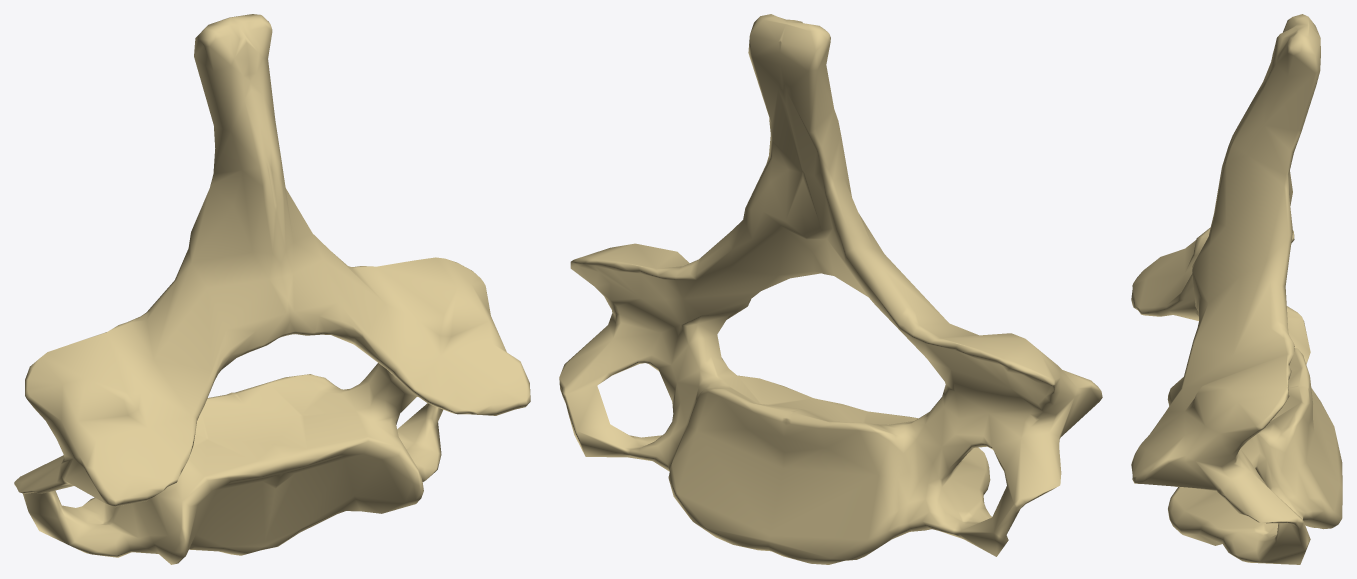
The picture shows the model from 3 angles, left to right: view 1: azimuth 30°, elevation 25°; view 2: azimuth 150°, elevation 25°; view 3: azimuth 270°, elevation 25°; orthographic projection. The views are drawn at different scales.
Visible parts, largest first — view 1: 第六颈椎; view 2: 第六颈椎; view 3: 第六颈椎.
Boxes of the visible parts, box(x1,y1,x2,y2) form: 第六颈椎: box(14, 14, 530, 564); 第六颈椎: box(559, 14, 1102, 564); 第六颈椎: box(1131, 14, 1342, 564).
Size of the model in its own units: 0.0903 by 0.0937 by 0.0362.
